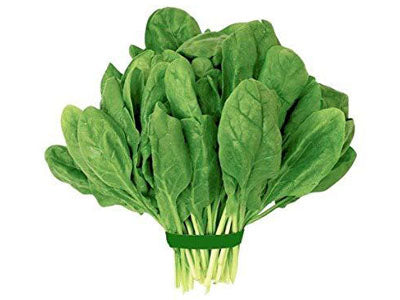Bayam: (22, 5, 380, 299)
